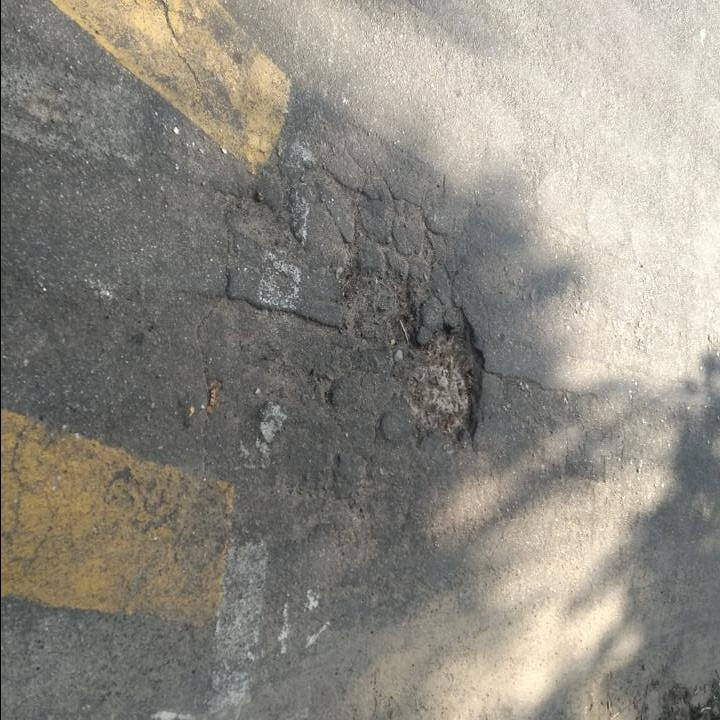pothole: (396, 306, 488, 458), (339, 263, 423, 363), (217, 189, 298, 257)
